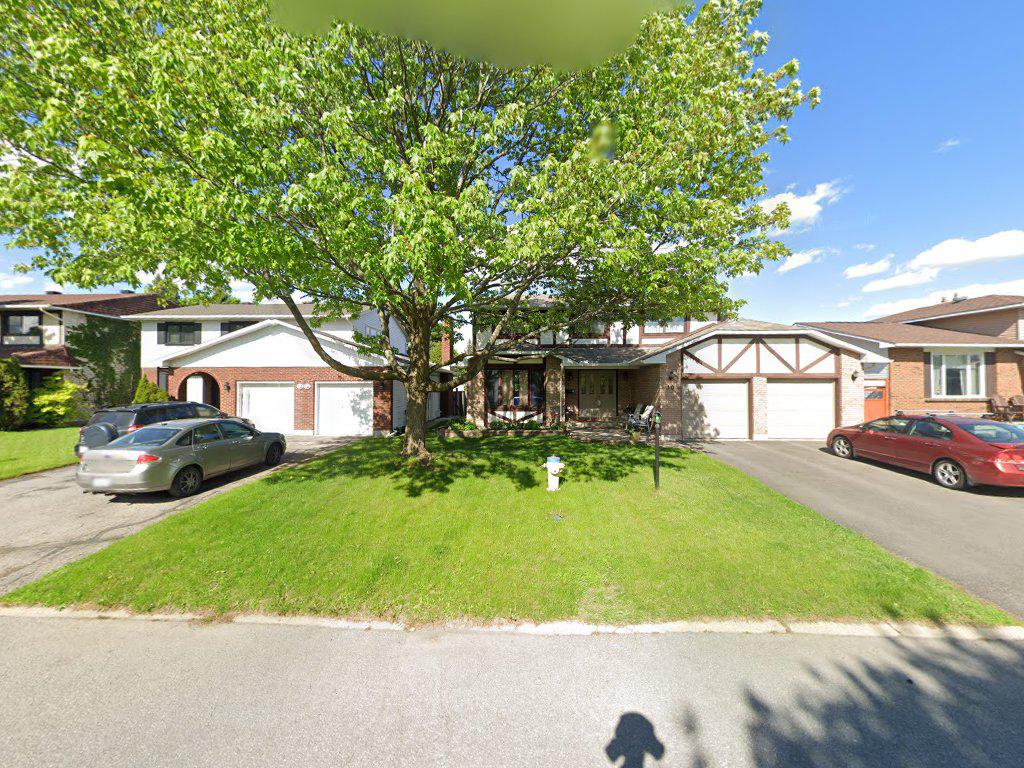trunk: (395, 292, 436, 493)
